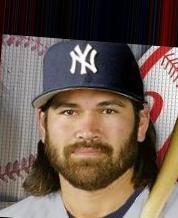face: (55, 102, 121, 160)
